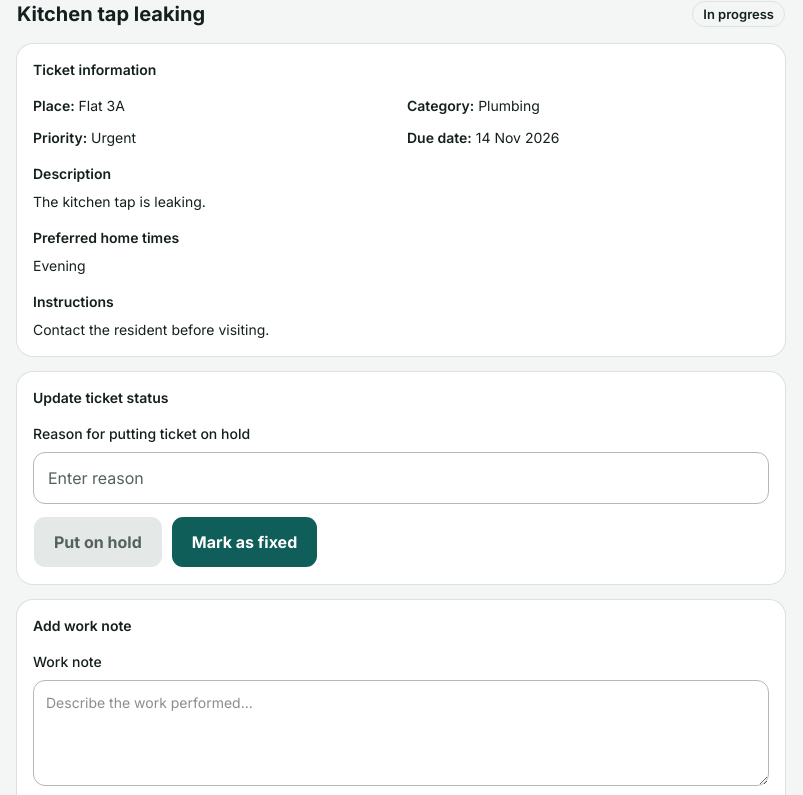
TicketDetail › submits a work note
Expected: the heading "Kitchen tap leaking" is shown, [17,0,205,28]
Type "Tap repaired successfully." into the text box labelled "Work note" at [401, 733], box [33,680,769,786]
(page scrolled)
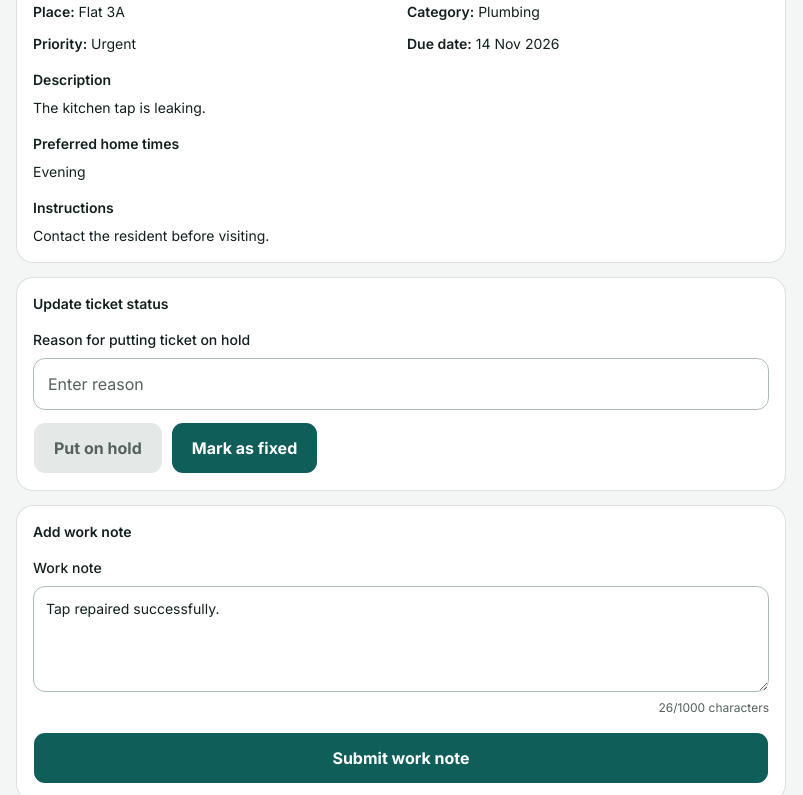
Click the button "Submit work note" at [401, 758], box [33,732,769,784]
(page scrolled)
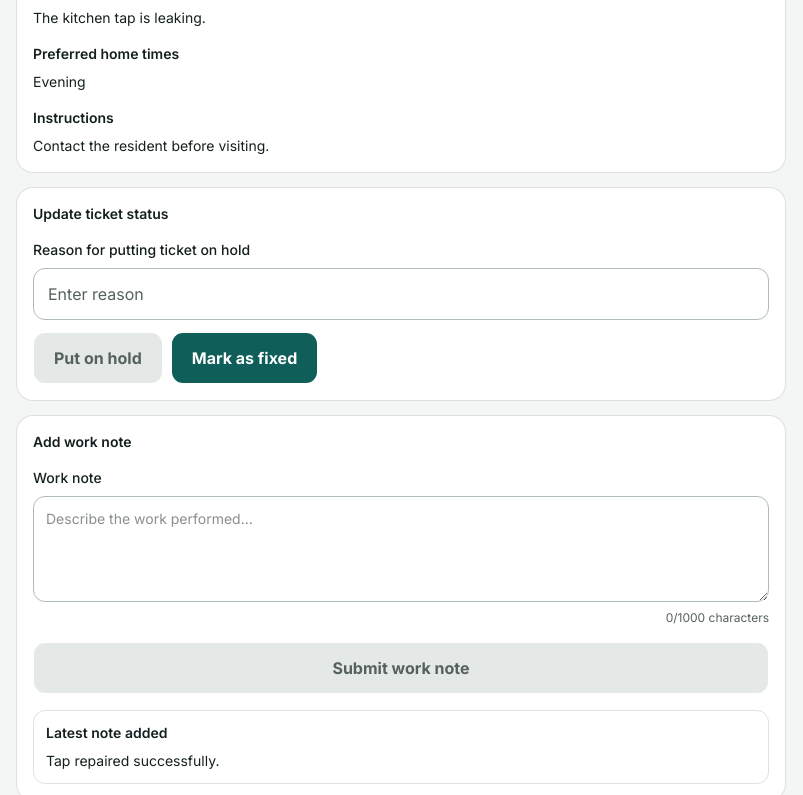
Now the text "Tap repaired successfully." is shown, box [46,752,220,769]
